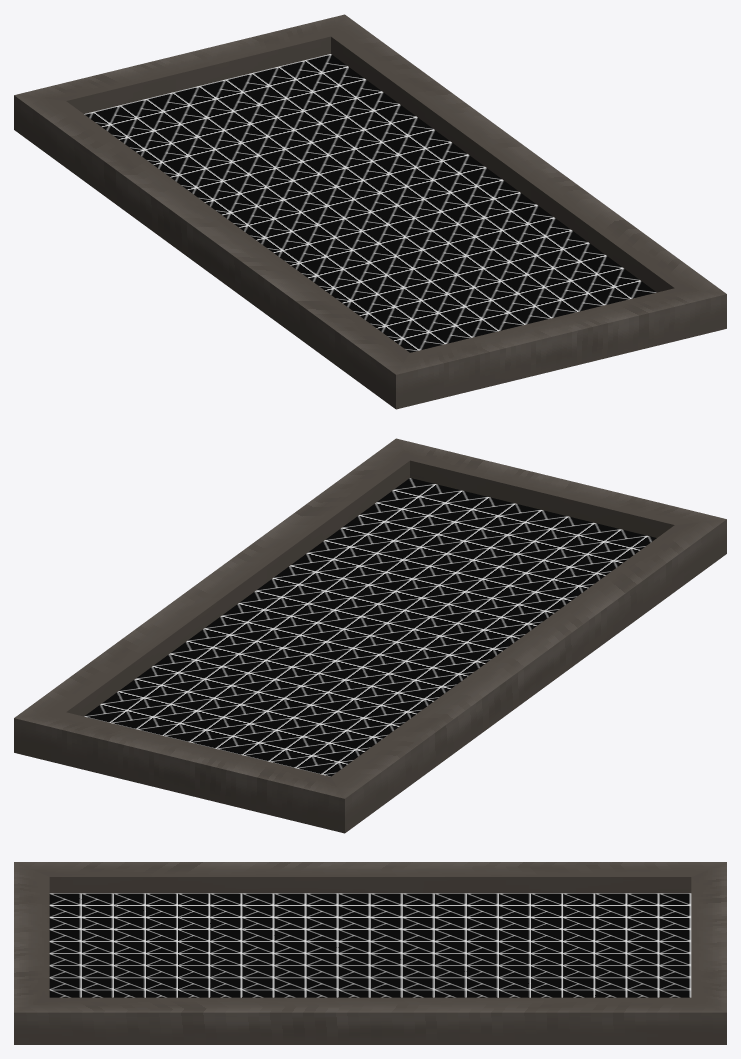
The model's file is P_Platform.FBX.
3 views of the same model, one above another, from view 1: azimuth 30°, elevation 25°; view 2: azimuth 150°, elevation 25°; view 3: azimuth 270°, elevation 25° (orthographic). The views are drawn at different scales.
Parts seen in each view (by area): view 1: Box001; view 2: Box001; view 3: Box001.
Part boxes in pixels (x1,y1,x2,y2): Box001: (14, 14, 726, 409); Box001: (14, 438, 726, 833); Box001: (14, 862, 726, 1044).
Size of the model in its own units: 100 by 10 by 200.
2 materials, 2 textured.
